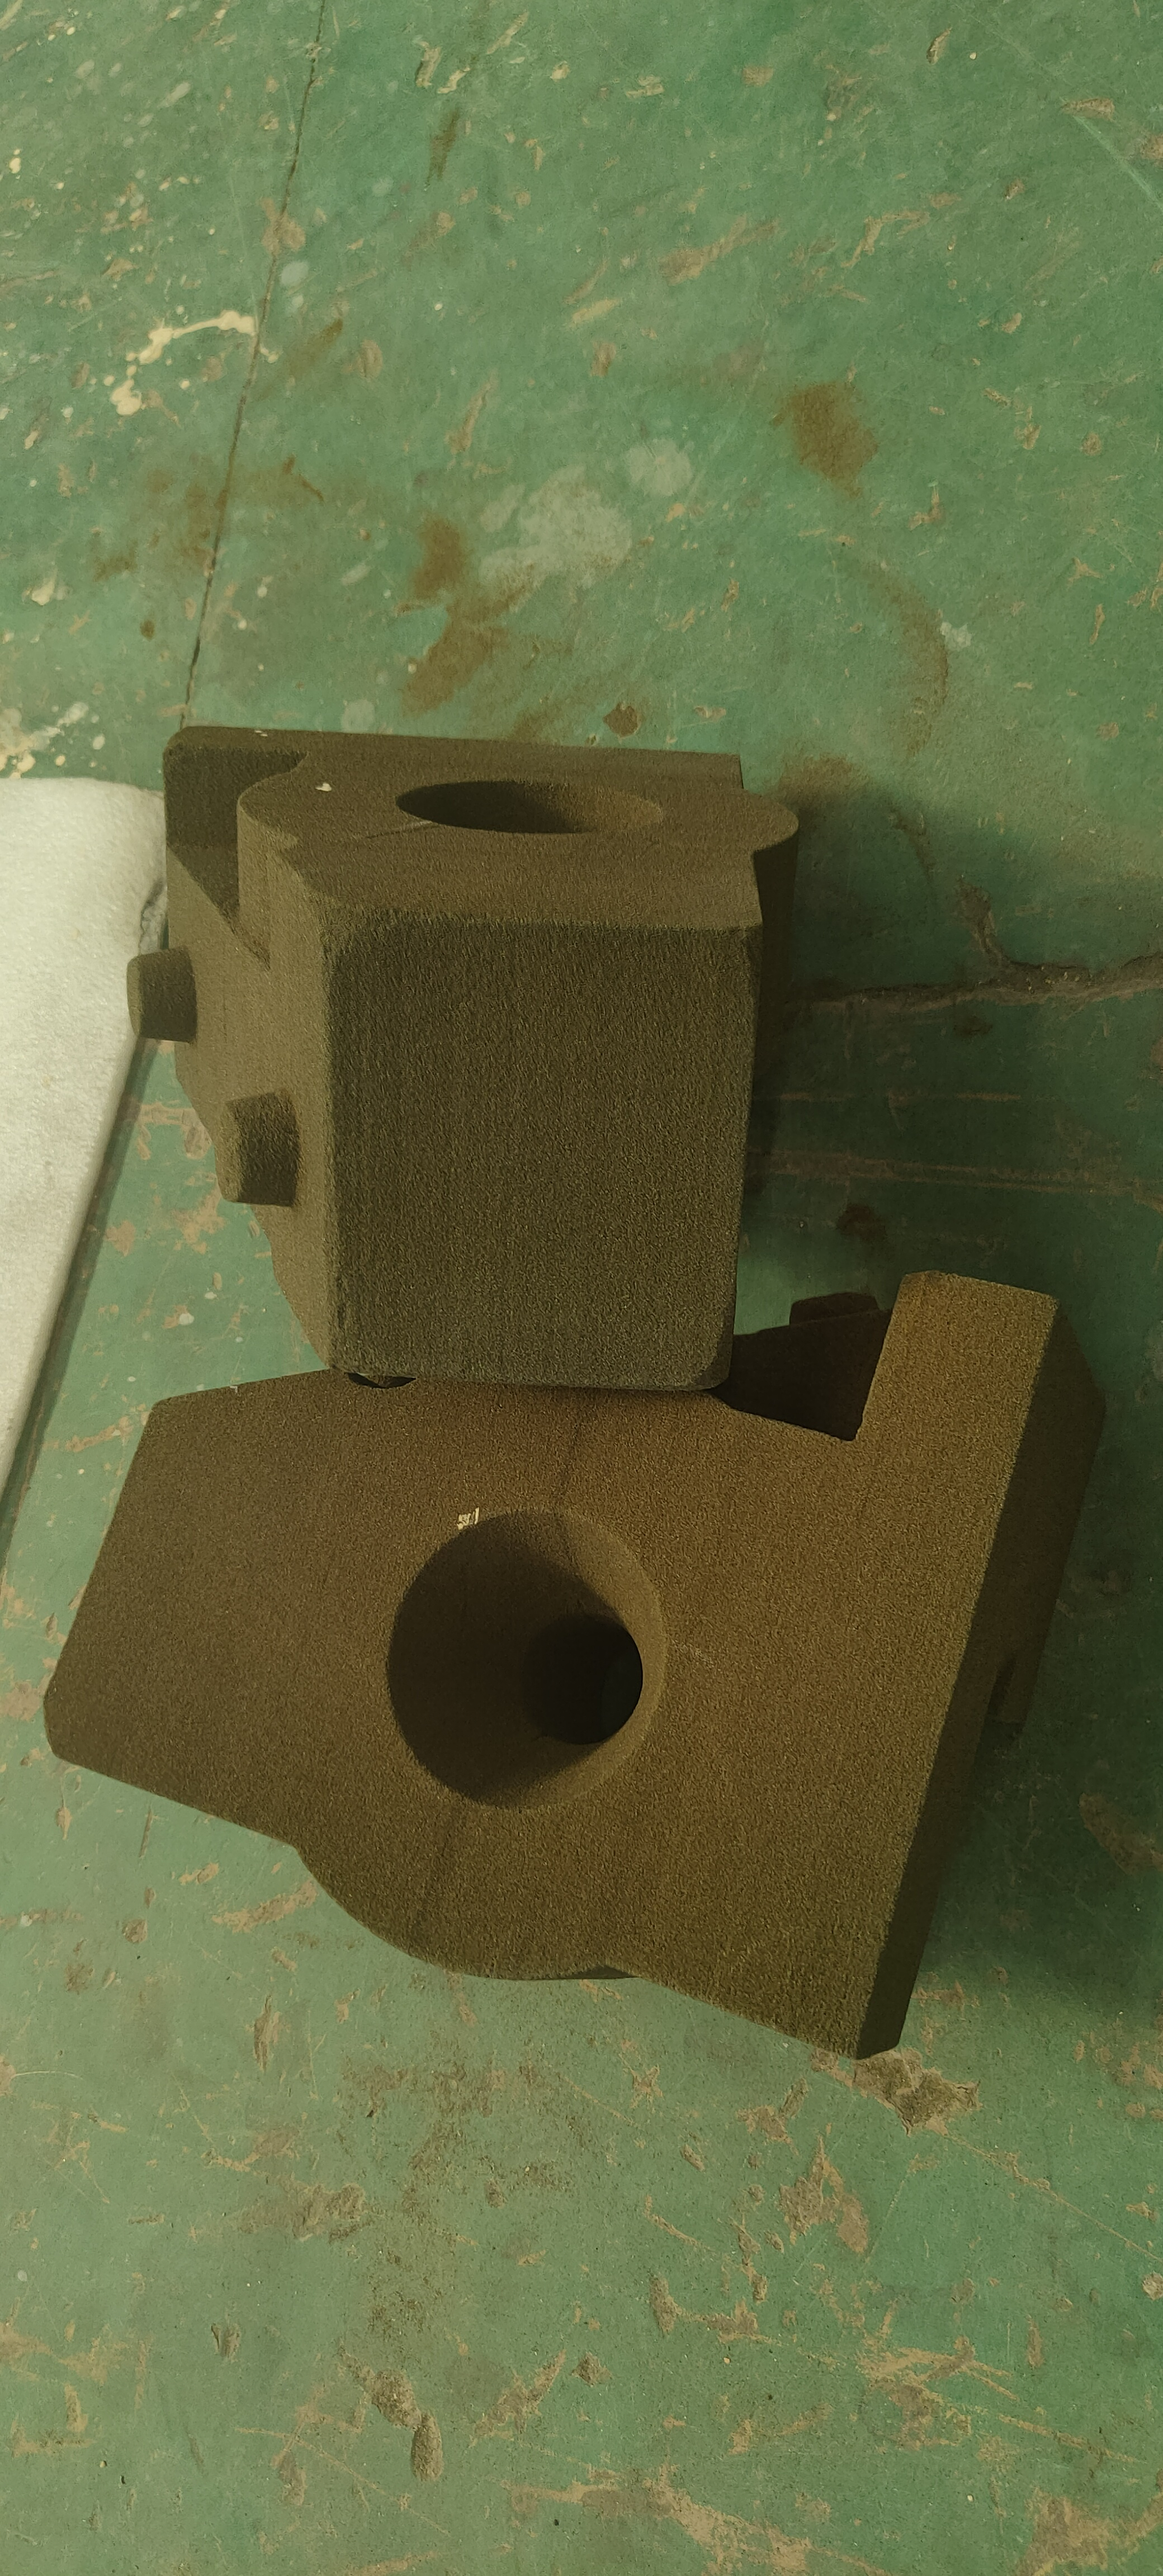pouring hole: (384, 1508, 667, 1815), (388, 771, 665, 843)
